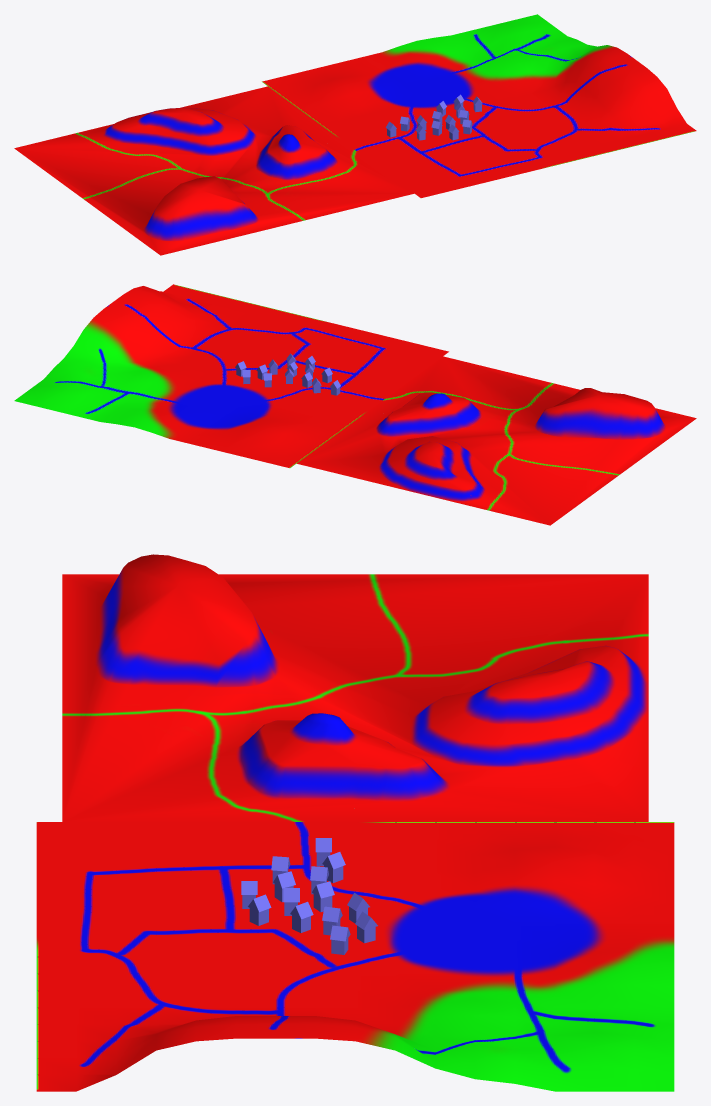
Rendered from terrain.glb.
3 renders of one model, top to bottom at view 1: azimuth 30°, elevation 25°; view 2: azimuth 150°, elevation 25°; view 3: azimuth 270°, elevation 25°, orthographic. The views are drawn at different scales.
Parts seen in each view (by area): view 1: cityTerrain, outsideTerrain; view 2: cityTerrain, outsideTerrain; view 3: cityTerrain, outsideTerrain.
Part boxes in pixels (x1,y1,x2,y2): cityTerrain: [262, 14, 696, 198]; outsideTerrain: [14, 86, 413, 255]; cityTerrain: [14, 284, 448, 468]; outsideTerrain: [297, 356, 696, 525]; cityTerrain: [36, 822, 674, 1091]; outsideTerrain: [62, 554, 648, 821].
Size of the model in its own units: 1672 by 83.76 by 871.
Materials: 3 (2 with a texture image).
